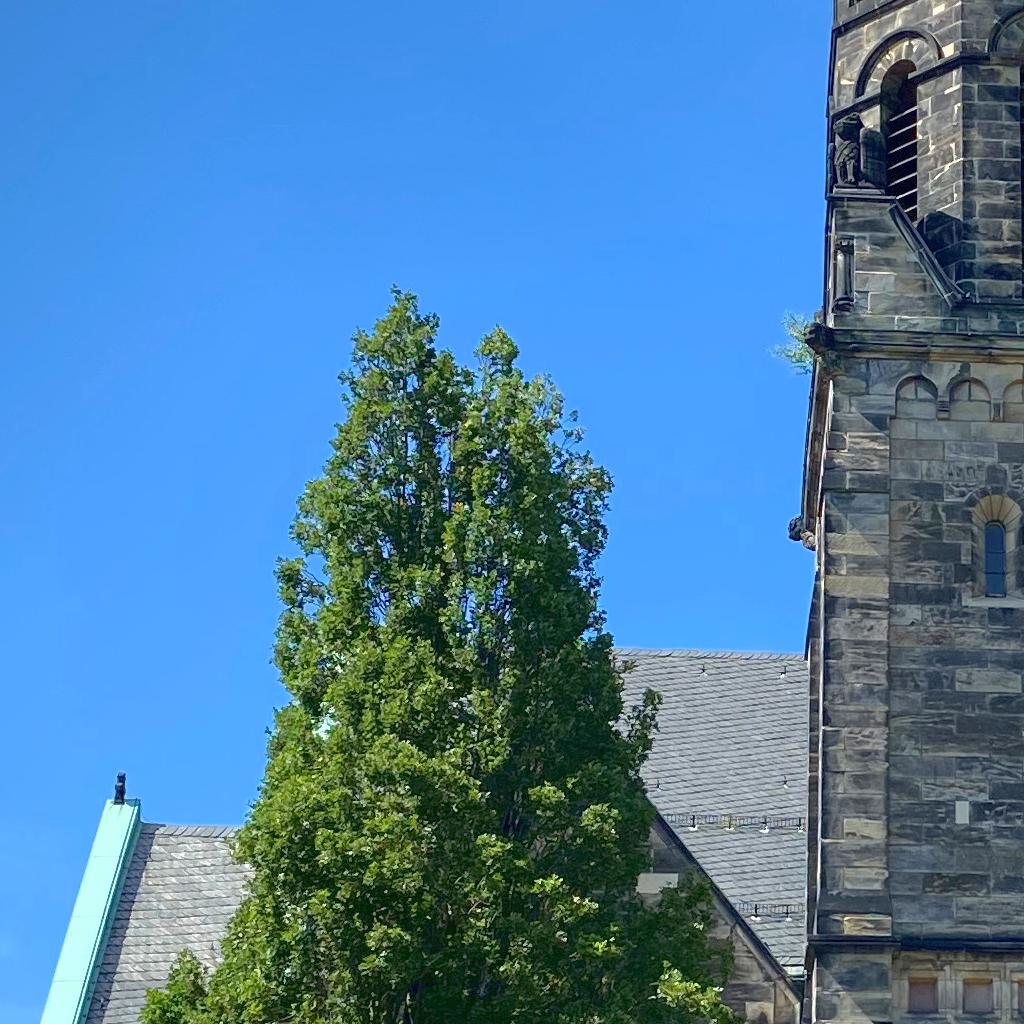tree: (137, 282, 738, 1024), (766, 308, 816, 376)
